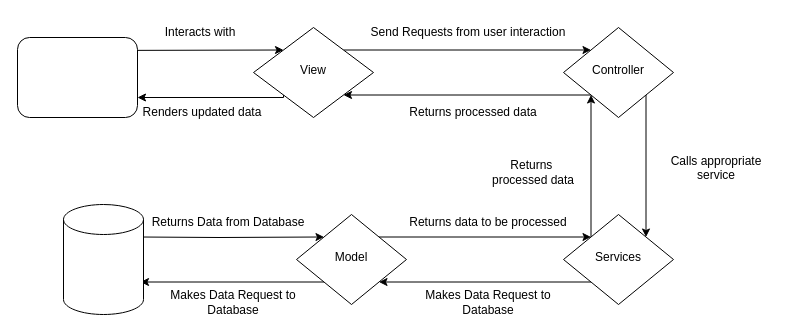
This 798x334 diagram has some shape labels left out. The shapes that lost their labels are listed below. From the top down, each one's centre as x and y in pixels, then its label:
At pixel 77 77: "End User".
At pixel 103 259: "Database".
